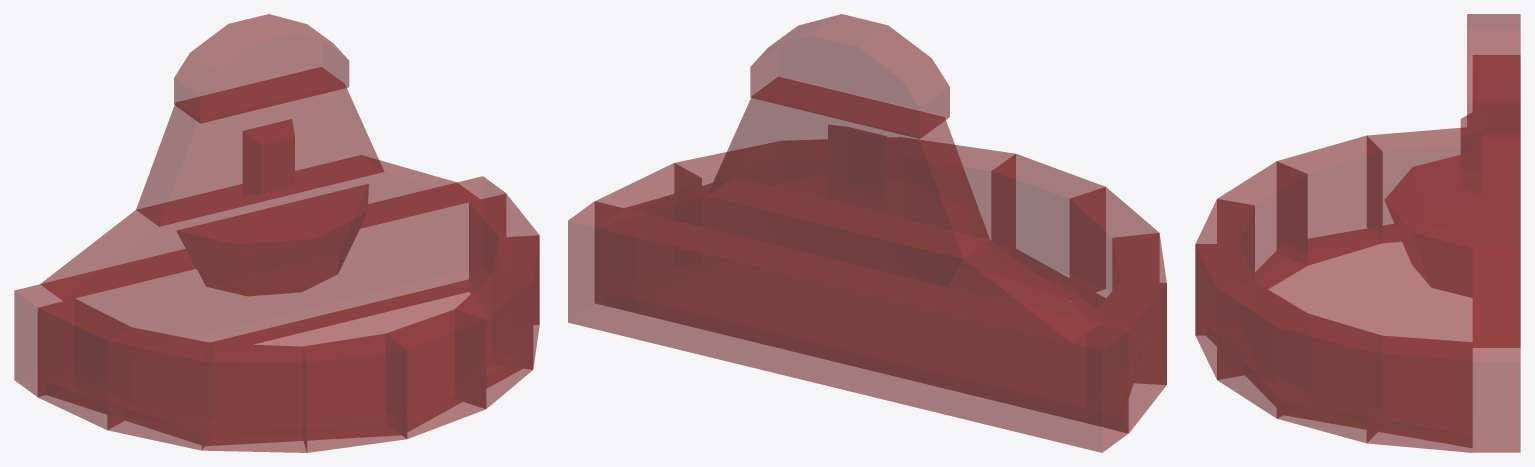
The model's file is SM_Prop_Fountain_02_Collision.fbx.
The picture shows the model from 3 angles, left to right: view 1: azimuth 30°, elevation 25°; view 2: azimuth 150°, elevation 25°; view 3: azimuth 270°, elevation 25°; orthographic projection. The views are drawn at different scales.
Parts seen in each view (by area): view 1: SM_Prop_Fountain_02_Collision; view 2: SM_Prop_Fountain_02_Collision; view 3: SM_Prop_Fountain_02_Collision.
Boxes of the visible parts, bbox=[...] form: SM_Prop_Fountain_02_Collision: bbox=[14, 14, 539, 452]; SM_Prop_Fountain_02_Collision: bbox=[568, 14, 1166, 452]; SM_Prop_Fountain_02_Collision: bbox=[1195, 14, 1520, 452].
Bounding box in the file's own units: 321 × 199 × 188.
